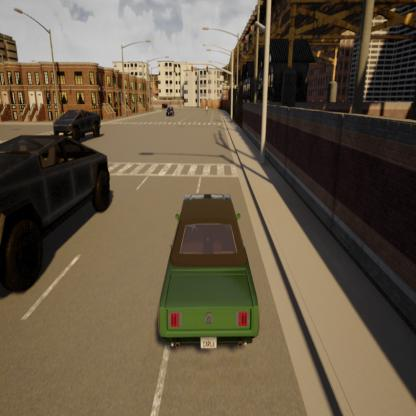Cars: (0, 119, 116, 300), (155, 185, 263, 361), (54, 105, 105, 146), (166, 106, 176, 119)
